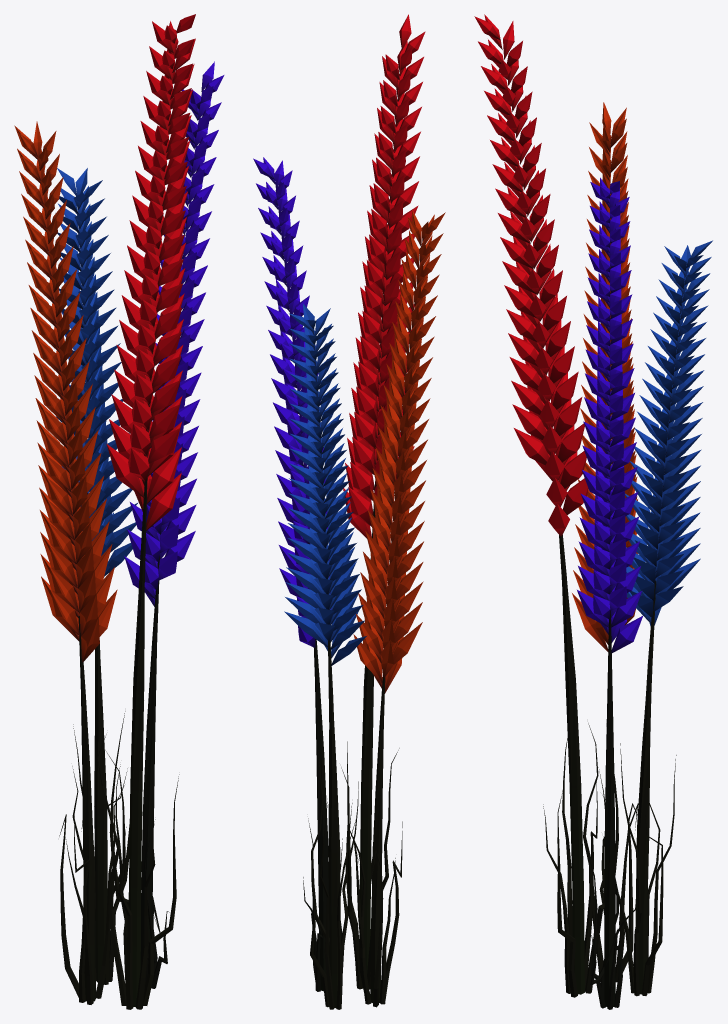
File: Plant-5.fbx
3 views of the same model, side by side, from view 1: azimuth 30°, elevation 25°; view 2: azimuth 150°, elevation 25°; view 3: azimuth 270°, elevation 25° (orthographic). The views are drawn at different scales.
Parts seen in each view (by area): view 1: file5; view 2: file5; view 3: file5.
Part boxes in pixels (box(x1,y1,x2,y2)): file5: box(14, 14, 224, 1009); file5: box(253, 14, 445, 1009); file5: box(474, 14, 712, 1009).
Bounding box in the file's own units: 0.3629 × 1.75 × 0.3873.
